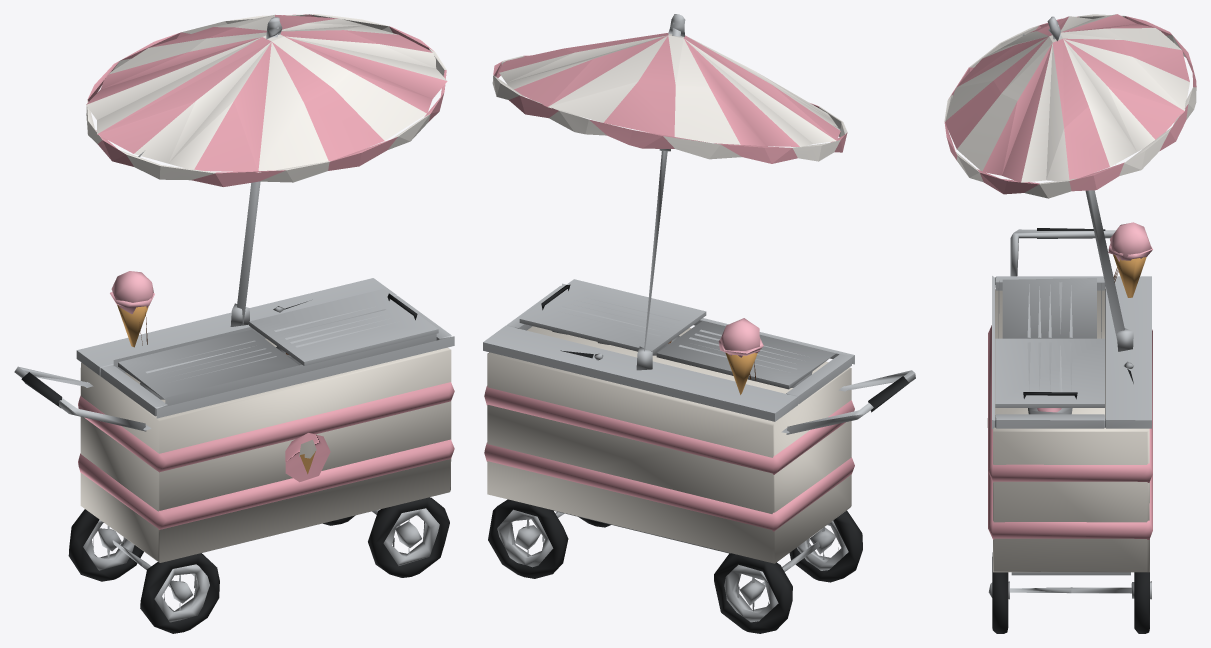
The model's file is iceCreamCart.far.glb.
The picture shows the model from 3 angles, left to right: view 1: azimuth 30°, elevation 25°; view 2: azimuth 150°, elevation 25°; view 3: azimuth 270°, elevation 25°; orthographic projection.
Visible parts, largest first — view 1: iceCreamCart_far; view 2: iceCreamCart_far; view 3: iceCreamCart_far.
Boxes of the visible parts, x1,y1,x2,y2 form: iceCreamCart_far: [14, 14, 454, 633]; iceCreamCart_far: [483, 14, 915, 633]; iceCreamCart_far: [944, 14, 1196, 633].
Bounding box in the file's own units: 1.73 × 2.35 × 0.9598.
